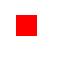square: (16, 15, 36, 35)
